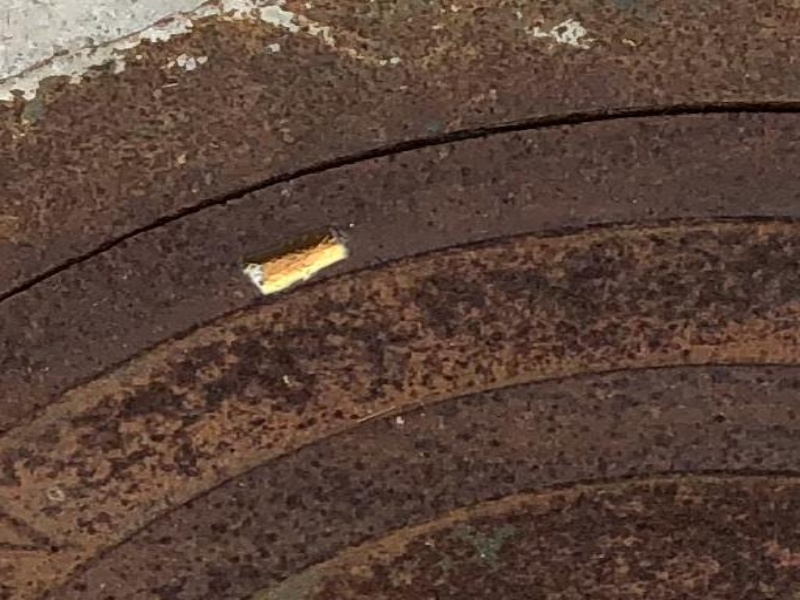cig: (230, 227, 367, 291)
